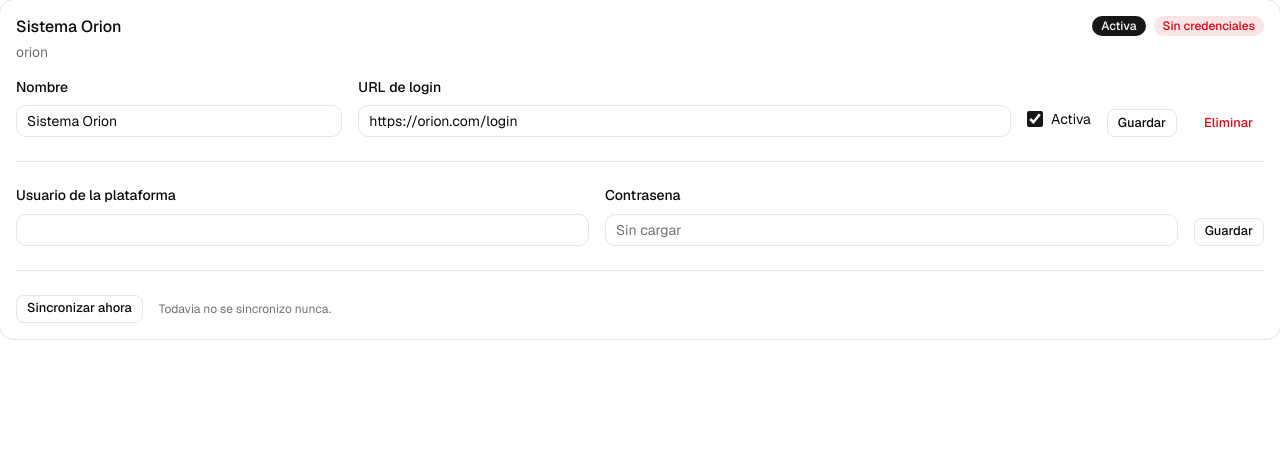
un guardado exitoso no tapa un error al eliminar
Click the 1st button "Guardar" at (1142, 123), box left=1107, top=109, right=1177, bottom=137
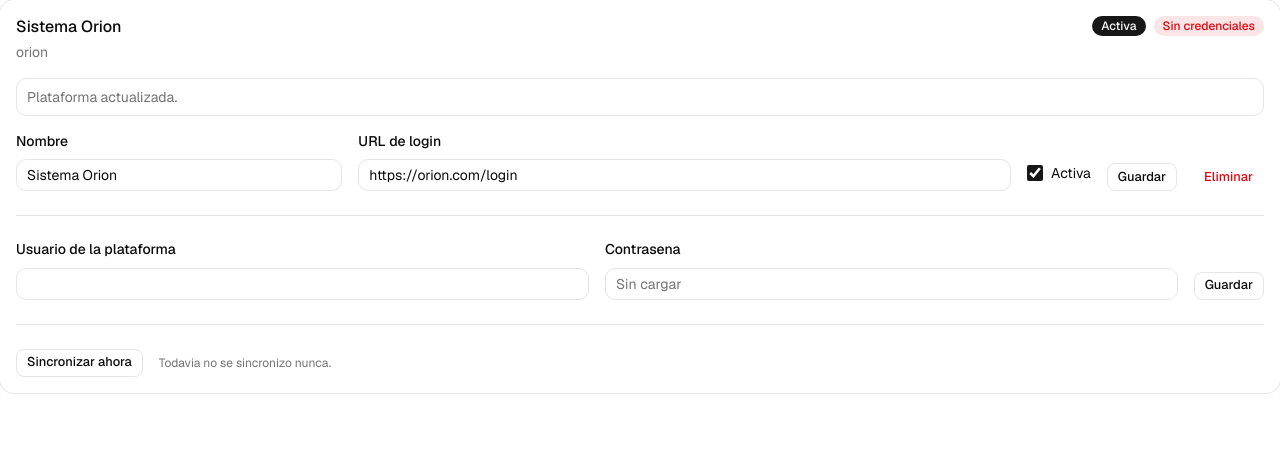
Expected: the text "Plataforma actualizada." is shown, left=27, top=88, right=177, bottom=106
Click the button "Eliminar" at (1229, 177), box left=1193, top=163, right=1264, bottom=191
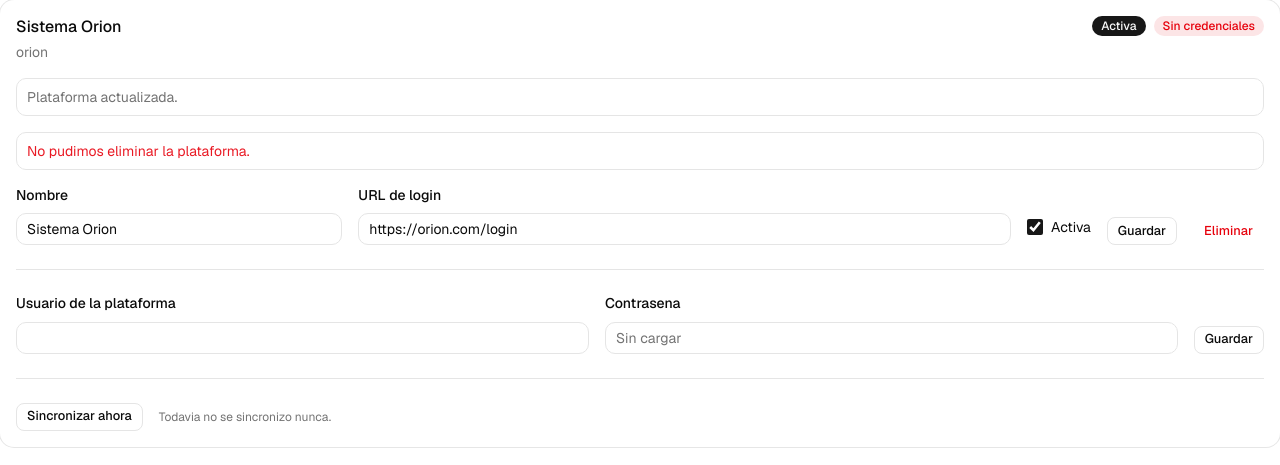
Expected: the text "No pudimos eliminar la plataforma." is shown, left=27, top=142, right=250, bottom=160
